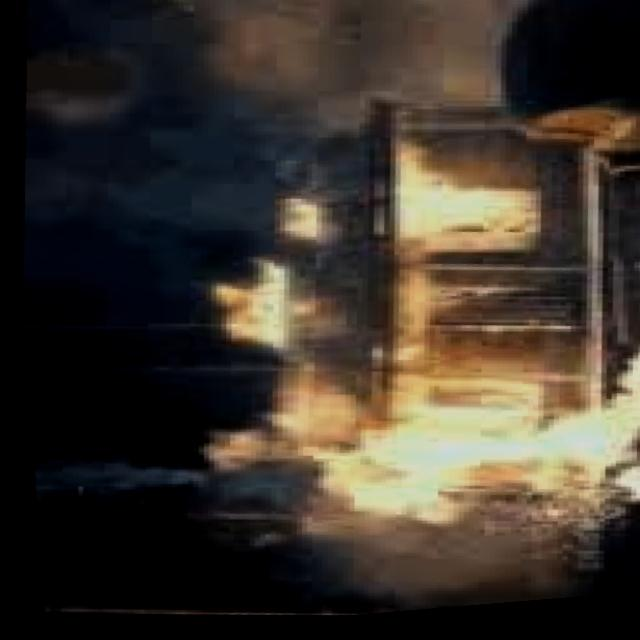Fire: (296, 376, 621, 528)
Smoke: (12, 0, 373, 262), (239, 460, 595, 627)
